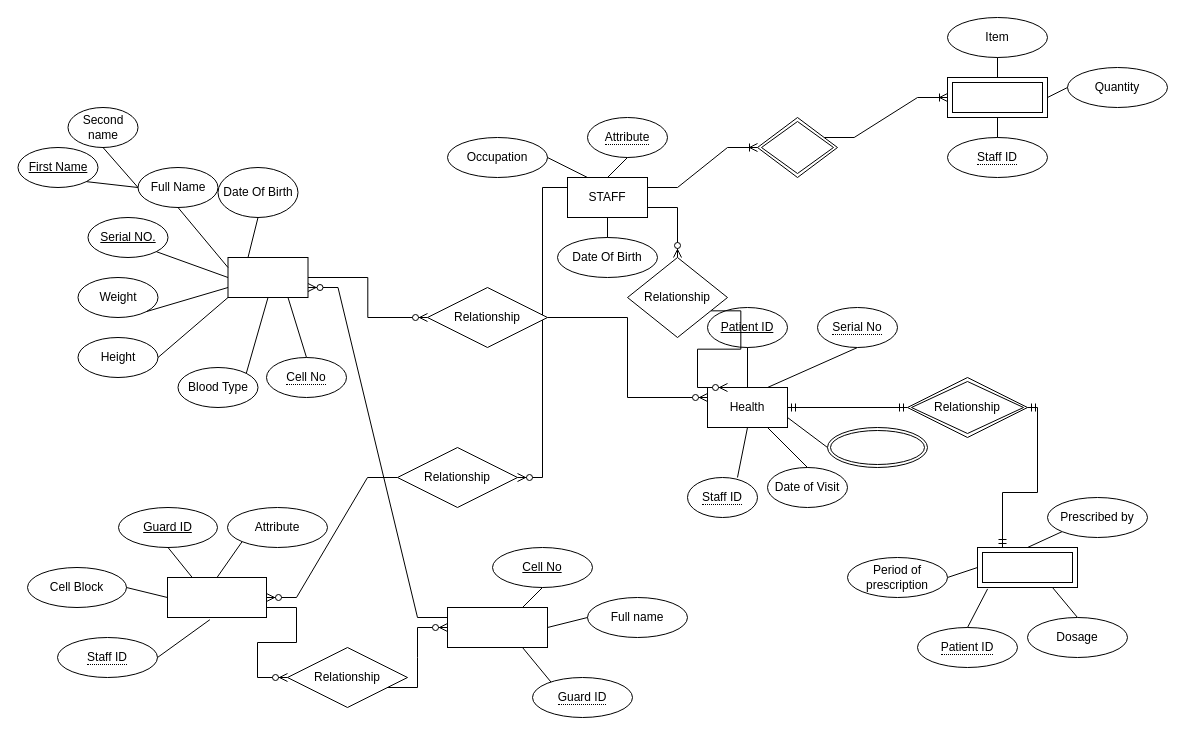
This 1185x735 diagram has some shape labels left out. The shapes that lost their labels are listed below. From the top down, each one's box as (x1, y1, x2, y2) in pixels, then its label:
(946, 76, 1048, 118): Inventory
(756, 116, 838, 178): have
(227, 256, 308, 298): INMATES
(826, 426, 928, 468): Ailment
(976, 546, 1078, 588): Many
(166, 576, 266, 618): GUARDS
(446, 606, 548, 648): CELLS
